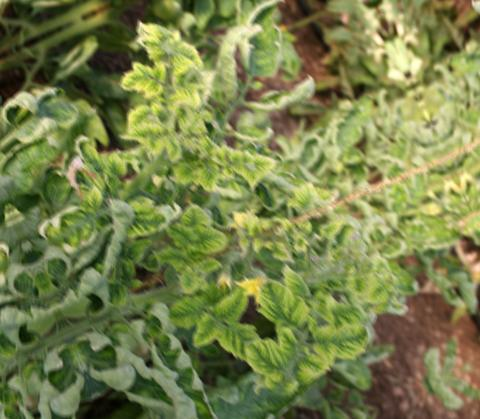Tomato leaf yellow virus: (132, 7, 208, 93), (303, 312, 380, 389), (246, 269, 319, 348), (213, 131, 283, 207), (109, 92, 187, 157), (231, 323, 293, 389), (112, 51, 176, 113), (160, 202, 218, 260), (199, 285, 264, 336), (161, 290, 219, 338), (179, 217, 235, 264), (121, 195, 171, 243), (174, 313, 224, 357), (187, 158, 228, 195)
